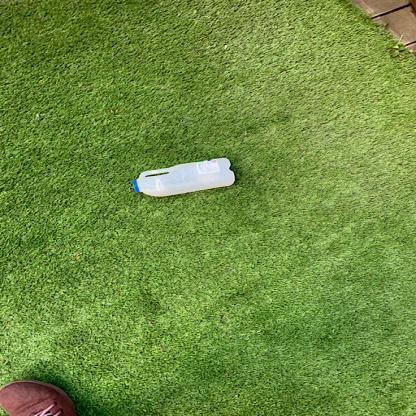trash: (128, 158, 239, 197)
